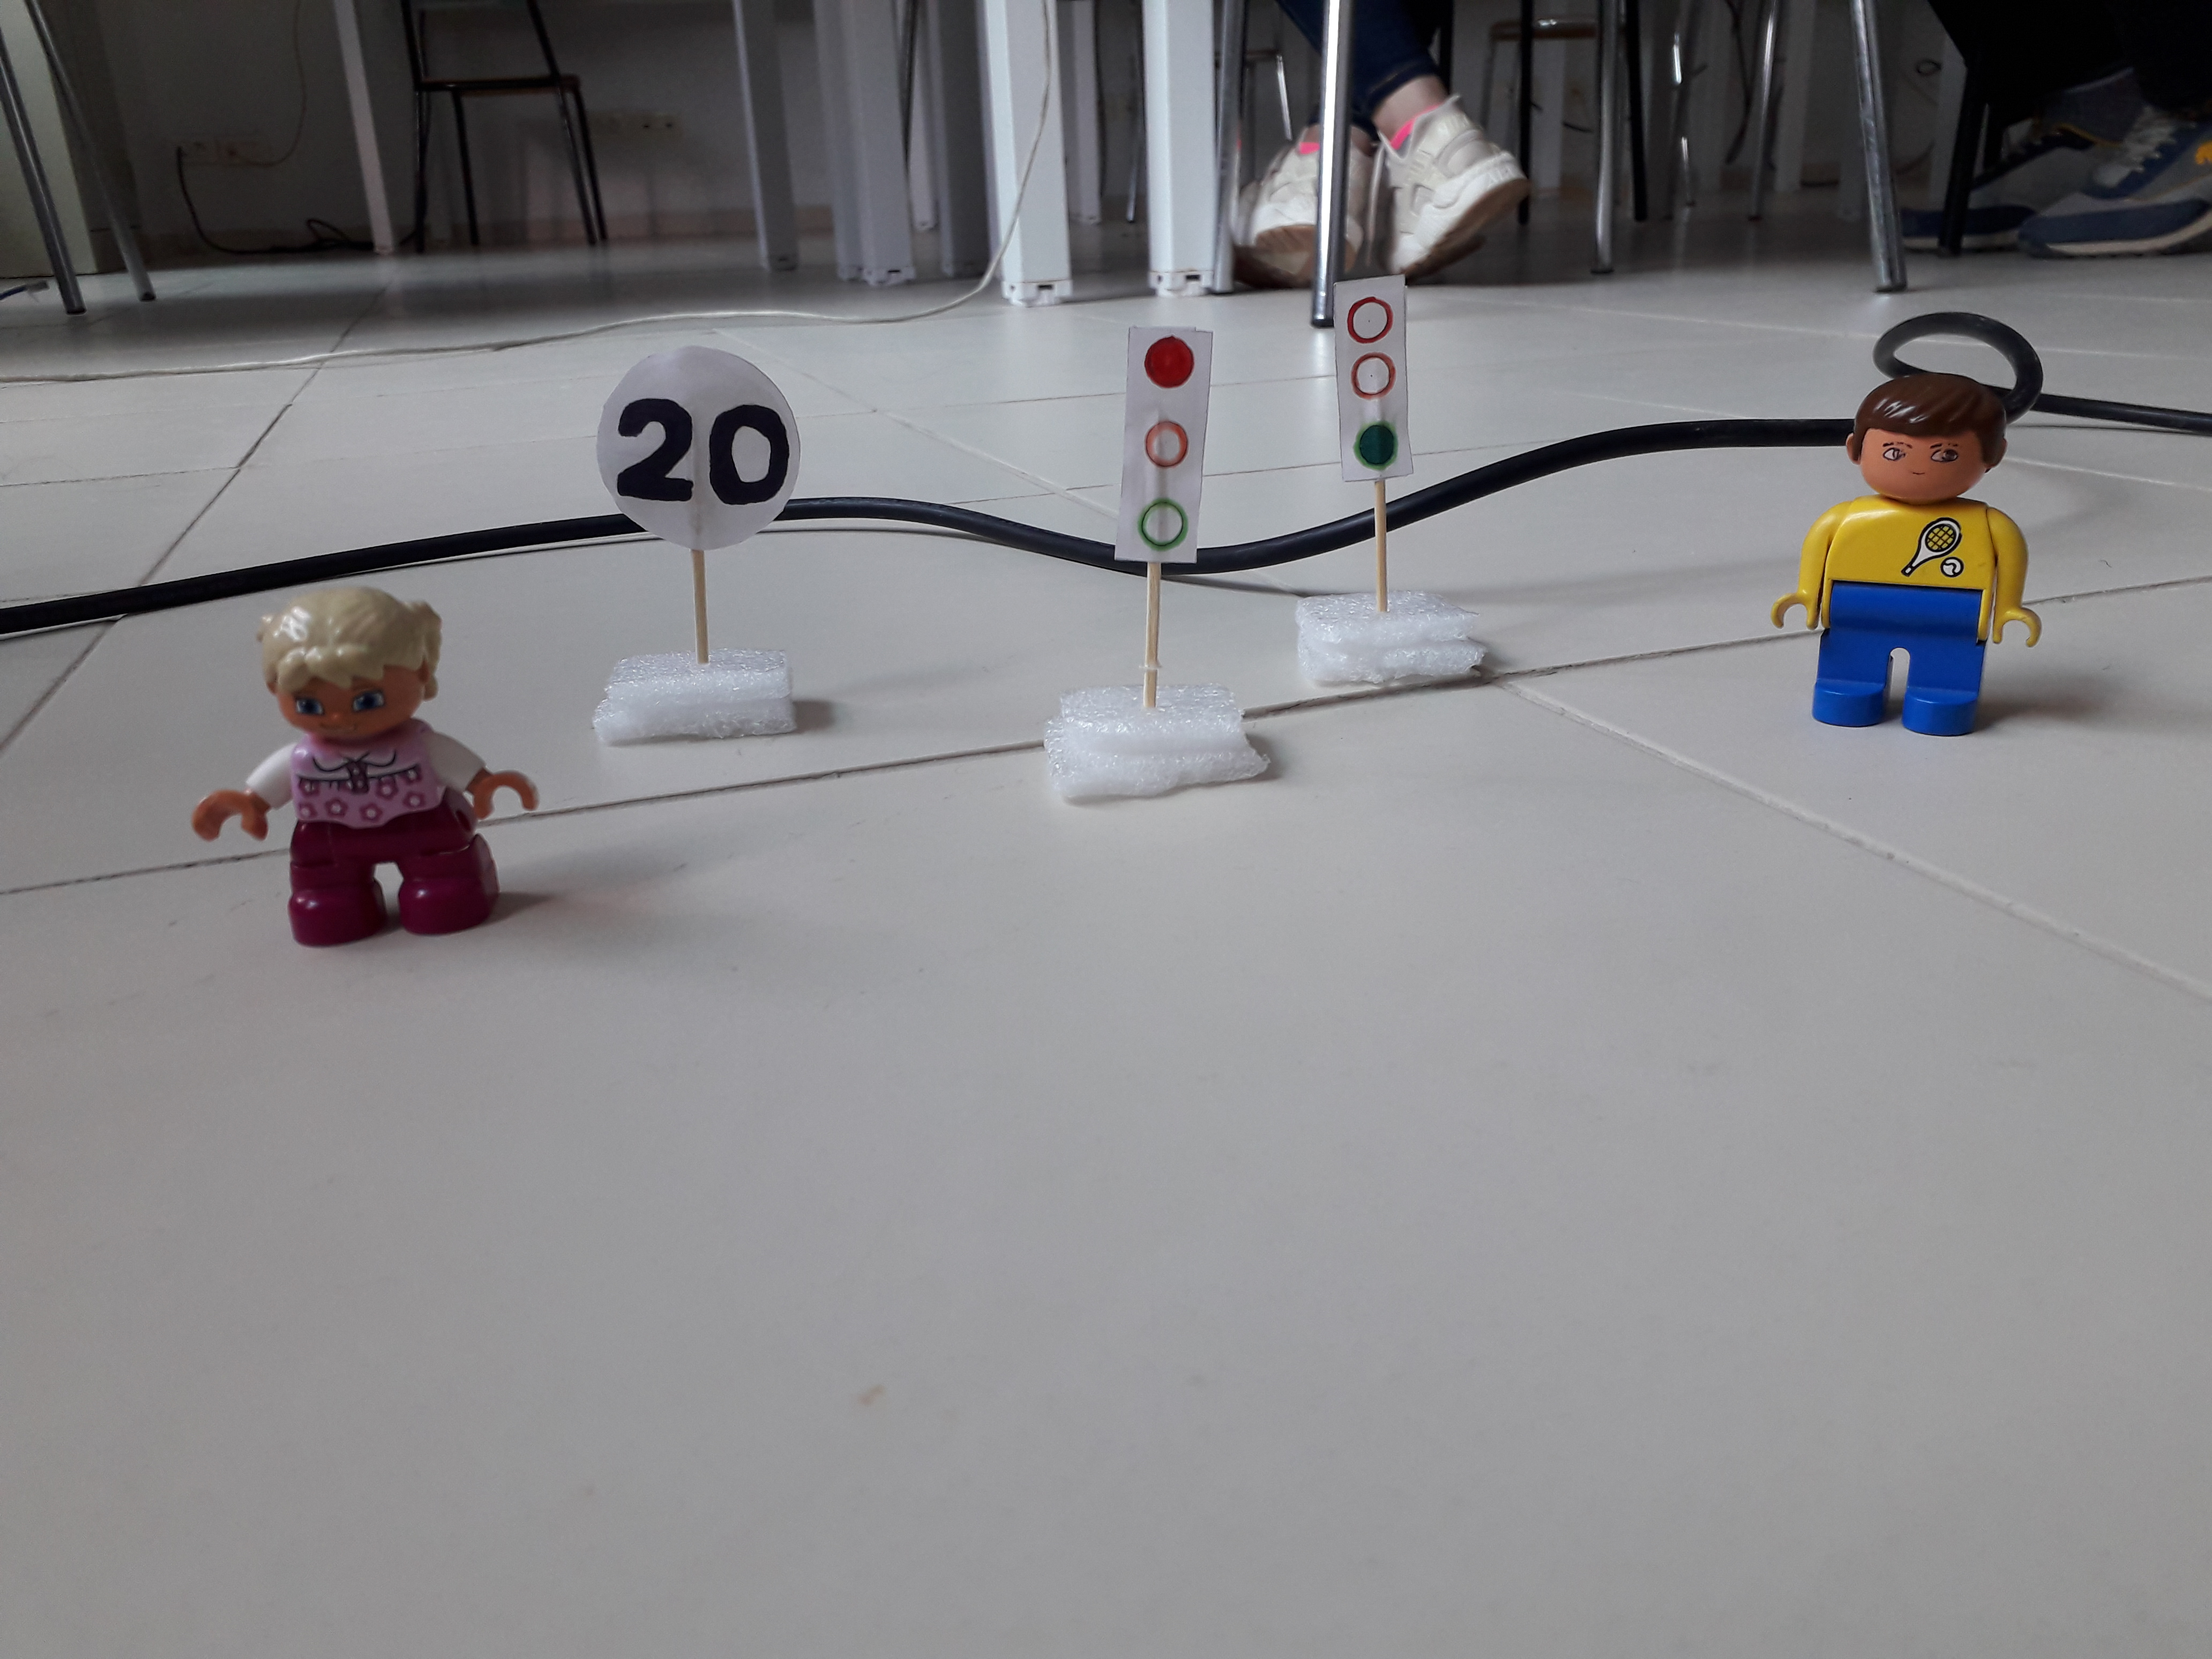20_sign: (599, 339, 806, 548)
green_light: (1329, 270, 1413, 474)
person: (181, 581, 545, 949), (1788, 370, 2041, 742)
red_light: (1104, 322, 1224, 579)
